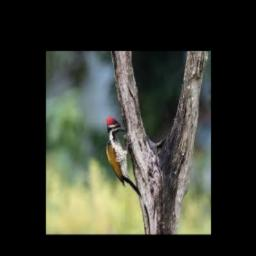Woodpecker: (106, 118, 142, 196)
